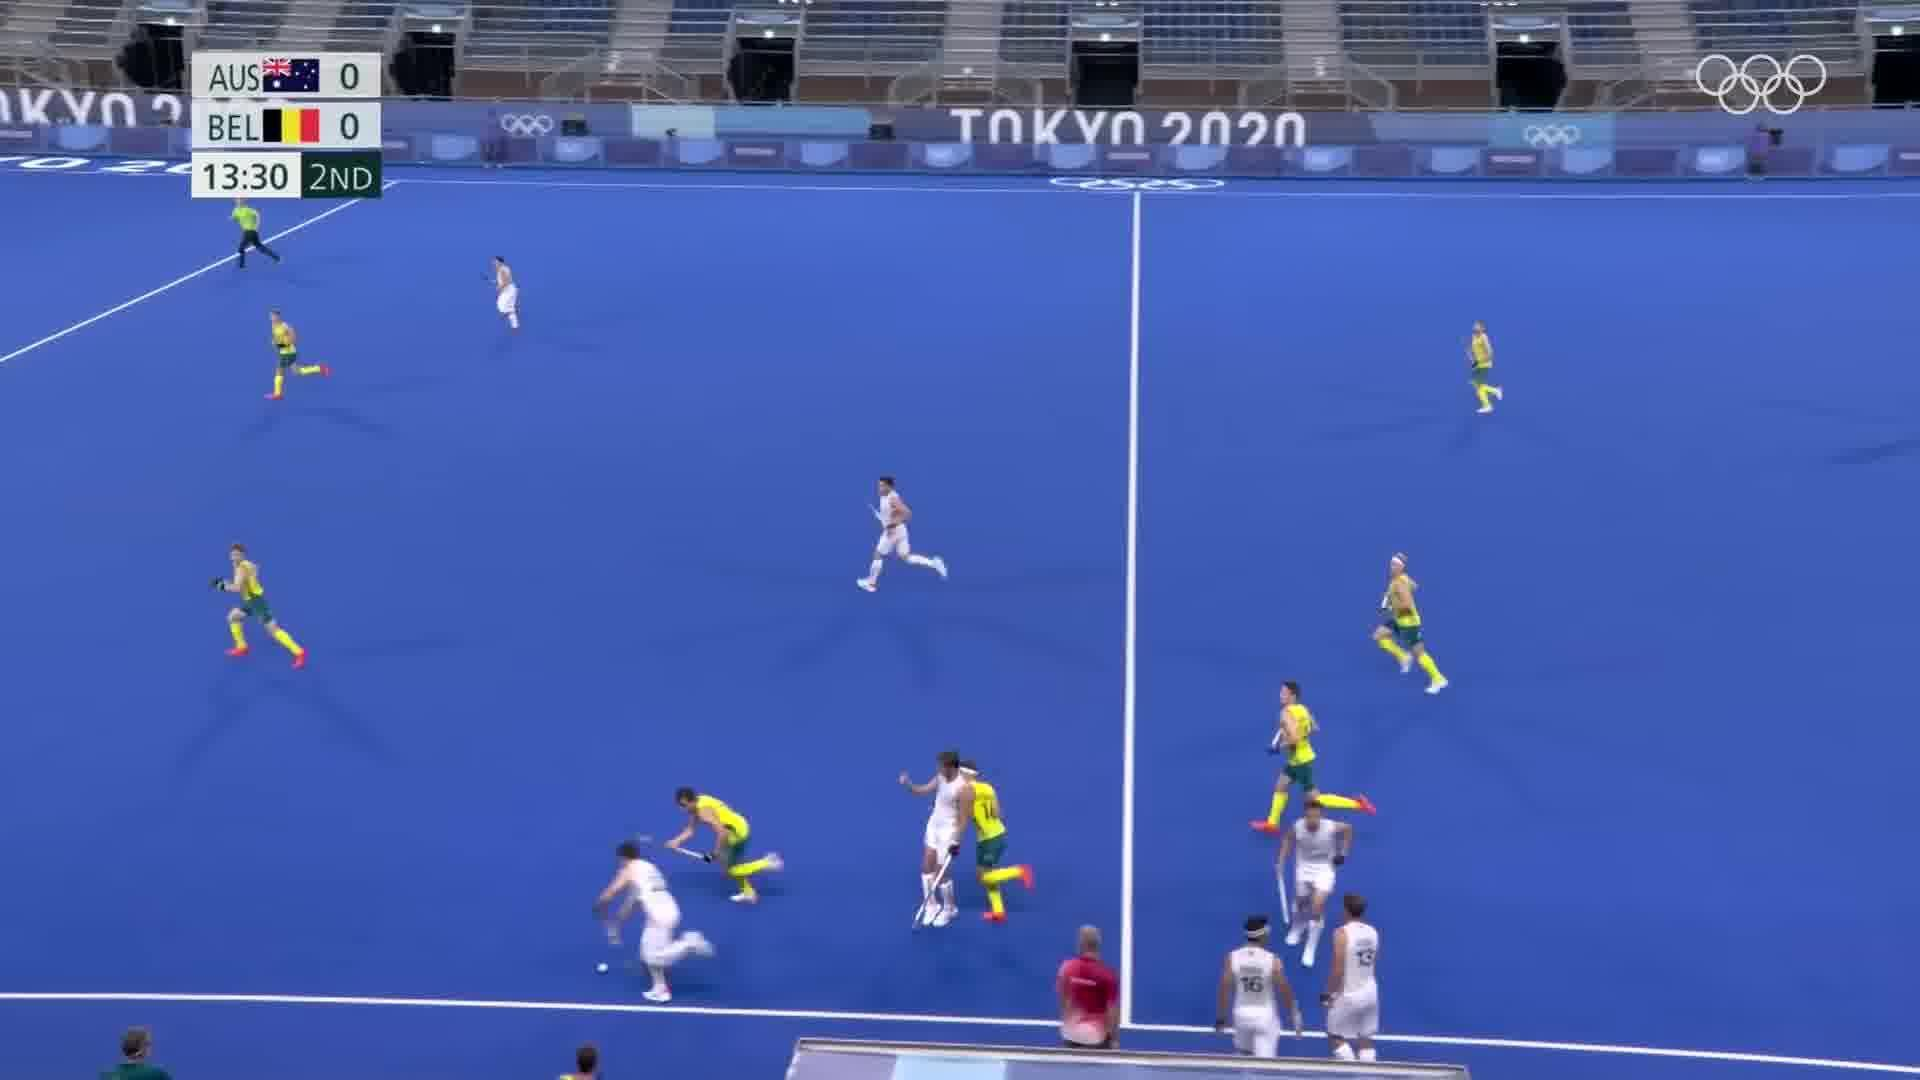ball: (592, 948, 625, 984)
